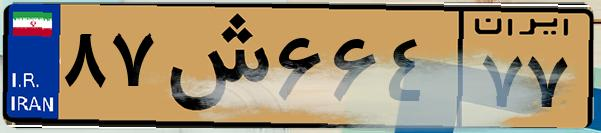4: (385, 28, 445, 110)
6: (270, 28, 330, 110), (330, 28, 385, 110)
7: (475, 38, 525, 113), (525, 38, 570, 115), (110, 28, 158, 98)
8: (57, 26, 110, 100)
ش: (158, 12, 270, 120)
